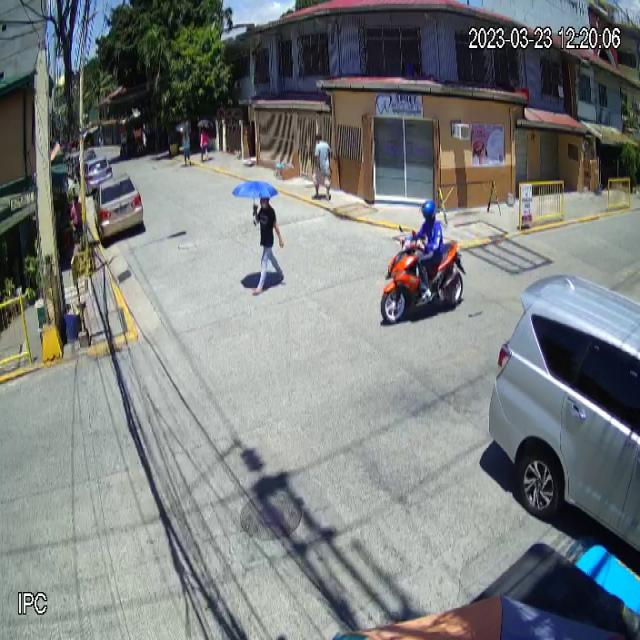Car: (487, 271, 640, 549), (93, 172, 143, 244)
Motorcycle: (378, 235, 466, 327)
